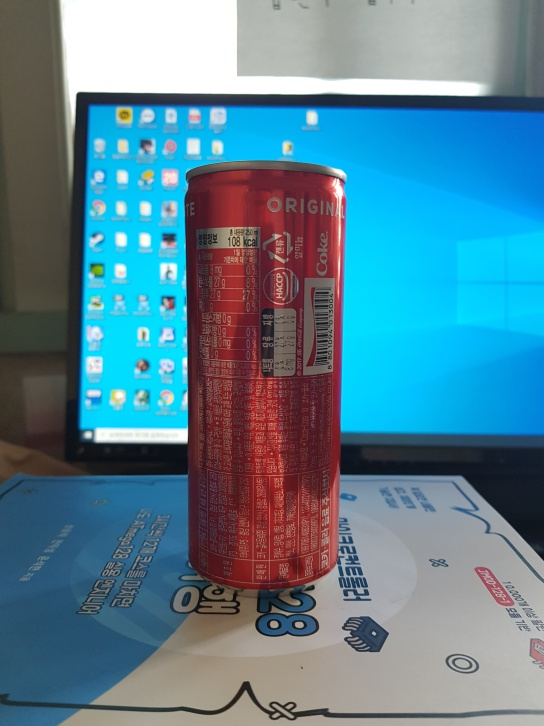Can: (179, 158, 348, 591)
